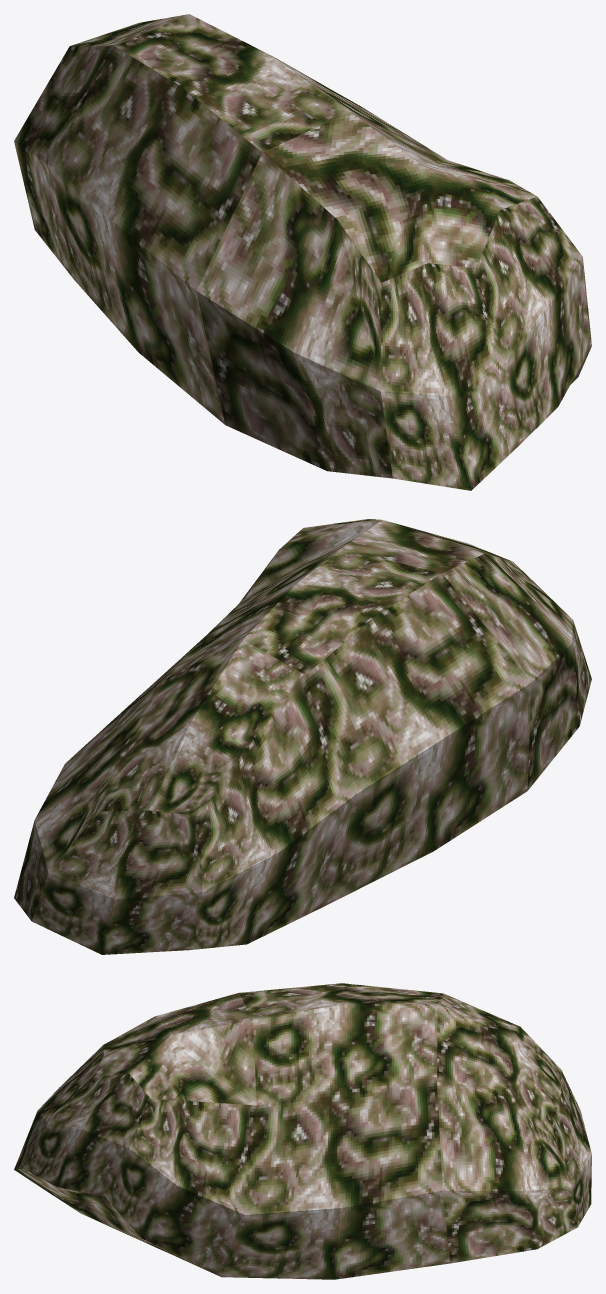
File: Brain_rock 1.fbx
The picture shows the model from 3 angles, top to bottom: view 1: azimuth 30°, elevation 25°; view 2: azimuth 150°, elevation 25°; view 3: azimuth 270°, elevation 25°; orthographic projection. The views are drawn at different scales.
Parts seen in each view (by area): view 1: Cube; view 2: Cube; view 3: Cube.
Boxes of the visible parts, x1=… form: Cube: x1=14, y1=14, x2=591, y2=490; Cube: x1=14, y1=519, x2=591, y2=954; Cube: x1=14, y1=983, x2=591, y2=1279.
Size of the model in its own units: 442 by 384 by 887.
Materials: 1 (1 with a texture image).
